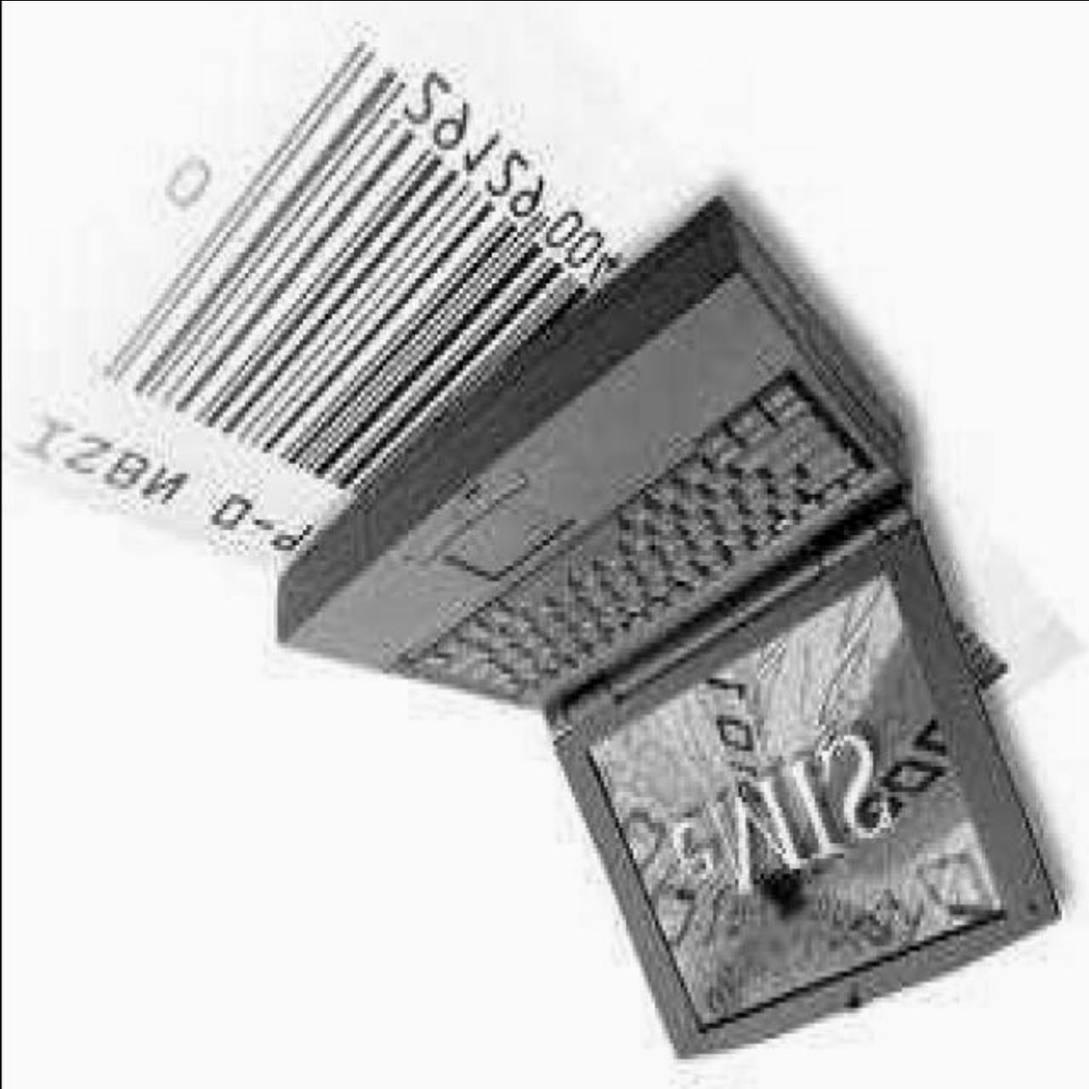laptop: (383, 178, 1053, 1061)
